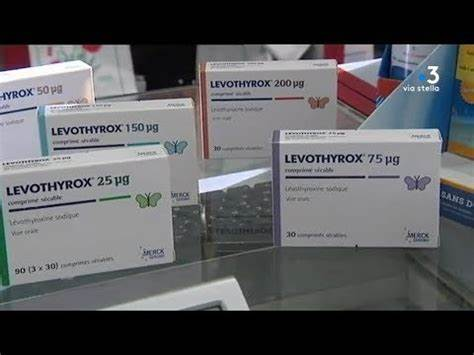Medicine: (267, 123, 447, 260), (0, 162, 174, 283), (38, 98, 205, 205), (196, 58, 343, 162), (0, 62, 103, 153)
